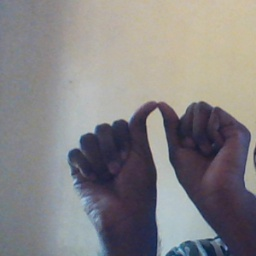A: (67, 98, 252, 222)
